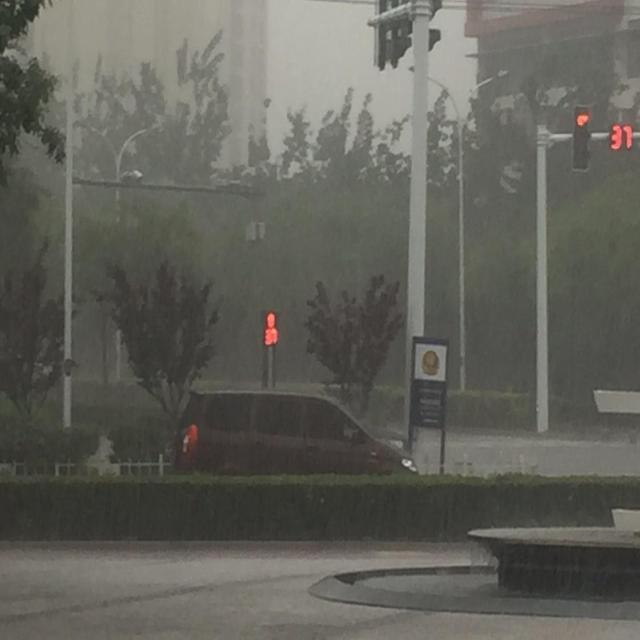car: (169, 388, 418, 474)
